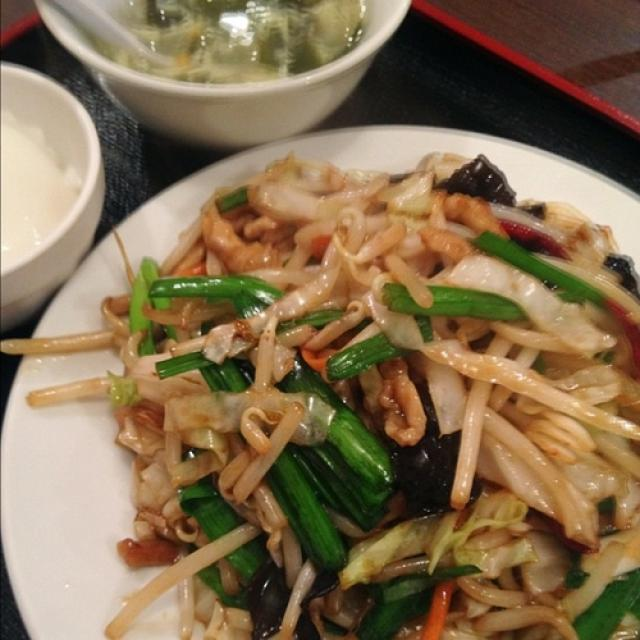蔬菜料理: (39, 148, 634, 634)
